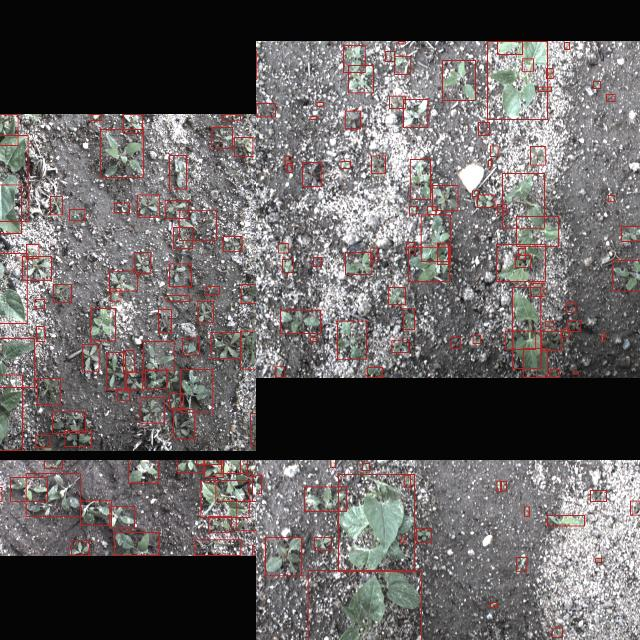crop: (308, 569, 422, 640), (338, 473, 414, 571), (488, 40, 548, 120), (502, 172, 544, 228), (0, 135, 27, 221), (513, 287, 541, 368), (496, 244, 546, 282), (0, 253, 27, 323), (201, 480, 249, 518), (0, 337, 34, 387), (0, 374, 22, 450), (516, 216, 558, 246), (0, 183, 22, 232), (524, 348, 548, 378), (0, 113, 17, 144), (498, 40, 522, 54)
weed: (26, 474, 80, 516), (100, 128, 144, 178), (408, 246, 449, 282), (264, 537, 302, 575), (421, 214, 451, 262), (181, 368, 213, 412), (442, 59, 476, 99), (337, 321, 367, 359), (180, 210, 217, 240), (114, 532, 160, 556), (216, 473, 252, 501), (304, 486, 346, 510), (10, 476, 48, 502), (280, 309, 320, 333), (144, 340, 174, 370), (612, 259, 640, 290), (90, 308, 116, 340), (80, 500, 112, 526), (410, 159, 430, 199), (211, 332, 241, 358), (52, 411, 86, 433), (195, 539, 241, 555), (348, 64, 374, 92), (402, 99, 428, 127), (106, 352, 125, 390), (22, 256, 52, 280), (128, 460, 158, 483), (432, 184, 458, 210), (173, 409, 194, 439), (506, 330, 536, 350), (236, 501, 256, 531), (38, 378, 61, 404), (109, 270, 138, 290), (170, 154, 187, 188), (140, 398, 164, 422), (346, 252, 372, 274), (241, 330, 256, 368), (344, 44, 364, 72), (82, 344, 100, 372), (110, 507, 134, 528), (169, 264, 191, 286), (302, 162, 322, 186), (64, 431, 92, 447), (173, 226, 193, 248), (138, 194, 158, 216), (212, 126, 232, 148), (165, 200, 189, 218), (548, 514, 584, 526), (542, 330, 562, 350), (208, 516, 232, 532), (146, 370, 166, 388), (123, 114, 143, 132), (234, 136, 252, 156), (198, 300, 214, 322), (53, 284, 71, 302), (182, 338, 200, 356), (388, 286, 406, 304), (134, 252, 150, 272), (177, 460, 203, 472), (158, 310, 172, 332), (240, 283, 256, 302), (204, 460, 223, 476), (126, 371, 142, 389), (345, 110, 361, 128), (394, 55, 410, 73), (530, 146, 546, 164), (71, 540, 89, 556), (621, 225, 640, 240), (222, 236, 242, 250), (256, 102, 276, 116), (168, 392, 184, 408), (314, 536, 332, 550), (221, 460, 241, 472), (371, 156, 385, 172), (416, 528, 432, 542), (124, 350, 134, 372), (438, 242, 448, 264), (50, 196, 62, 214), (404, 308, 414, 329), (530, 282, 544, 296), (69, 208, 85, 220), (392, 340, 408, 352), (478, 194, 494, 206), (516, 556, 528, 572), (250, 413, 256, 444), (27, 244, 39, 258), (36, 435, 50, 447), (390, 95, 404, 107), (516, 255, 530, 267), (36, 326, 46, 342), (114, 202, 130, 212), (591, 490, 607, 500), (282, 260, 294, 272), (522, 58, 534, 70), (368, 367, 382, 377), (630, 500, 640, 514), (247, 460, 256, 475), (167, 295, 189, 301), (117, 388, 129, 399), (478, 122, 489, 134), (44, 460, 62, 467), (110, 288, 120, 300), (568, 320, 580, 330), (256, 474, 262, 493), (206, 286, 220, 294), (451, 337, 461, 348), (222, 113, 240, 119), (35, 298, 45, 308), (278, 243, 288, 253), (566, 302, 576, 312), (552, 627, 562, 637), (404, 474, 411, 488), (370, 247, 378, 259), (406, 242, 414, 254), (490, 144, 498, 156), (196, 460, 220, 464), (276, 367, 284, 378), (341, 160, 351, 168), (386, 51, 394, 61), (518, 248, 526, 258), (550, 369, 560, 377), (560, 328, 570, 336), (90, 114, 102, 120), (428, 206, 437, 214), (498, 204, 507, 212), (313, 258, 321, 266), (284, 156, 292, 164), (473, 335, 481, 343), (362, 462, 370, 470), (546, 68, 552, 78), (606, 94, 616, 100), (524, 506, 530, 516), (409, 205, 416, 213), (538, 86, 552, 90), (251, 546, 256, 556), (545, 320, 553, 326), (594, 80, 600, 88), (288, 162, 292, 172), (497, 480, 501, 490), (502, 480, 506, 490), (310, 336, 316, 342), (472, 190, 478, 196), (564, 42, 570, 48), (608, 195, 614, 201), (330, 460, 335, 467), (488, 160, 492, 167), (489, 602, 496, 606), (317, 101, 323, 105), (399, 40, 405, 44), (596, 558, 602, 562), (401, 536, 405, 542), (311, 115, 317, 118), (602, 333, 604, 341), (574, 372, 578, 374)
